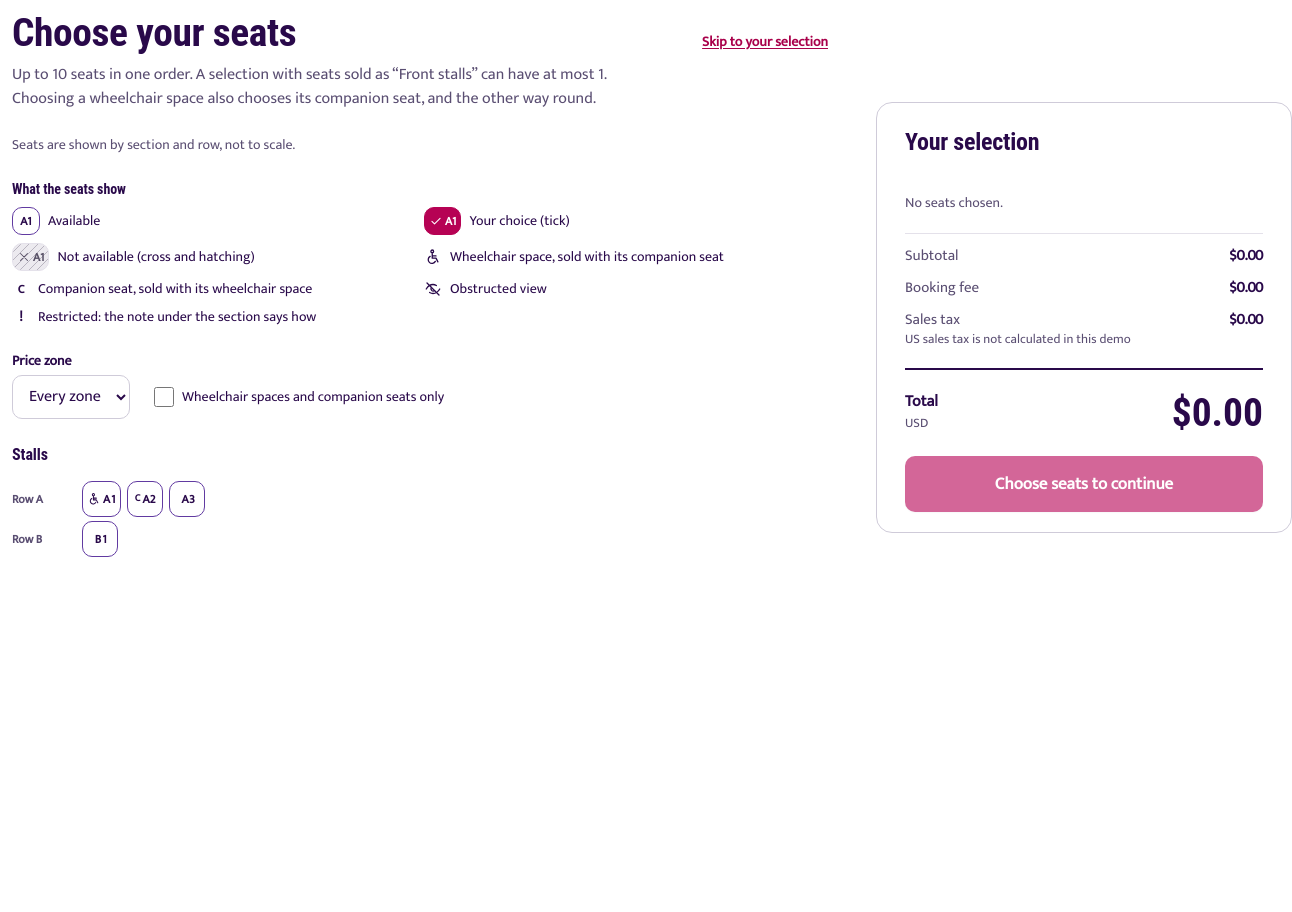
Test case: choosing seats › holds a mixed selection to the smallest limit among its tiers, and says whose
Expected: the text "A selection with seats sold as “Front stalls” can have at most 1." is shown, [12,61,607,88]
Click the button "A3" at (187, 499), box [169,481,205,517]
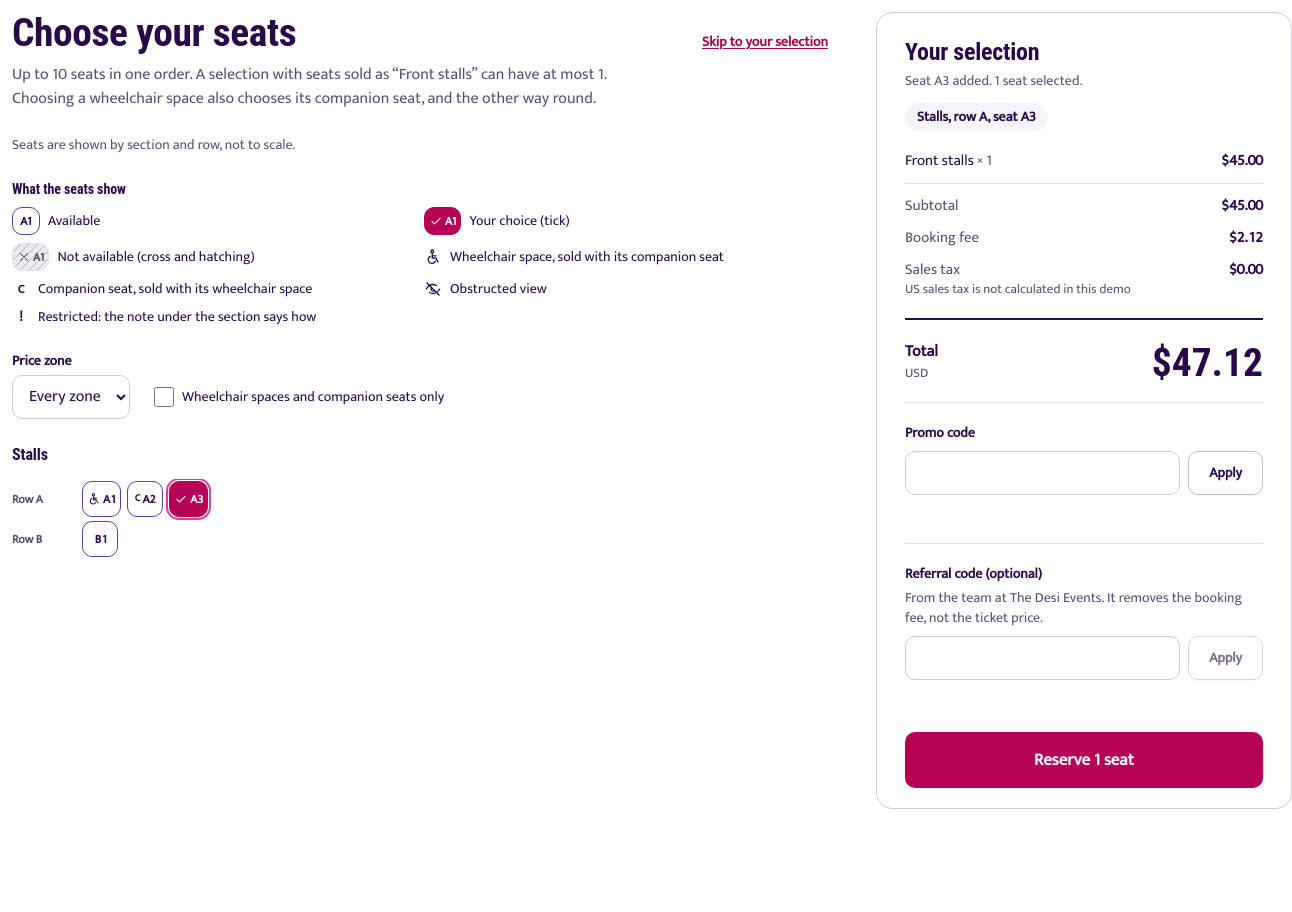
Click the button "B1" at (100, 539), box [82,521,118,557]
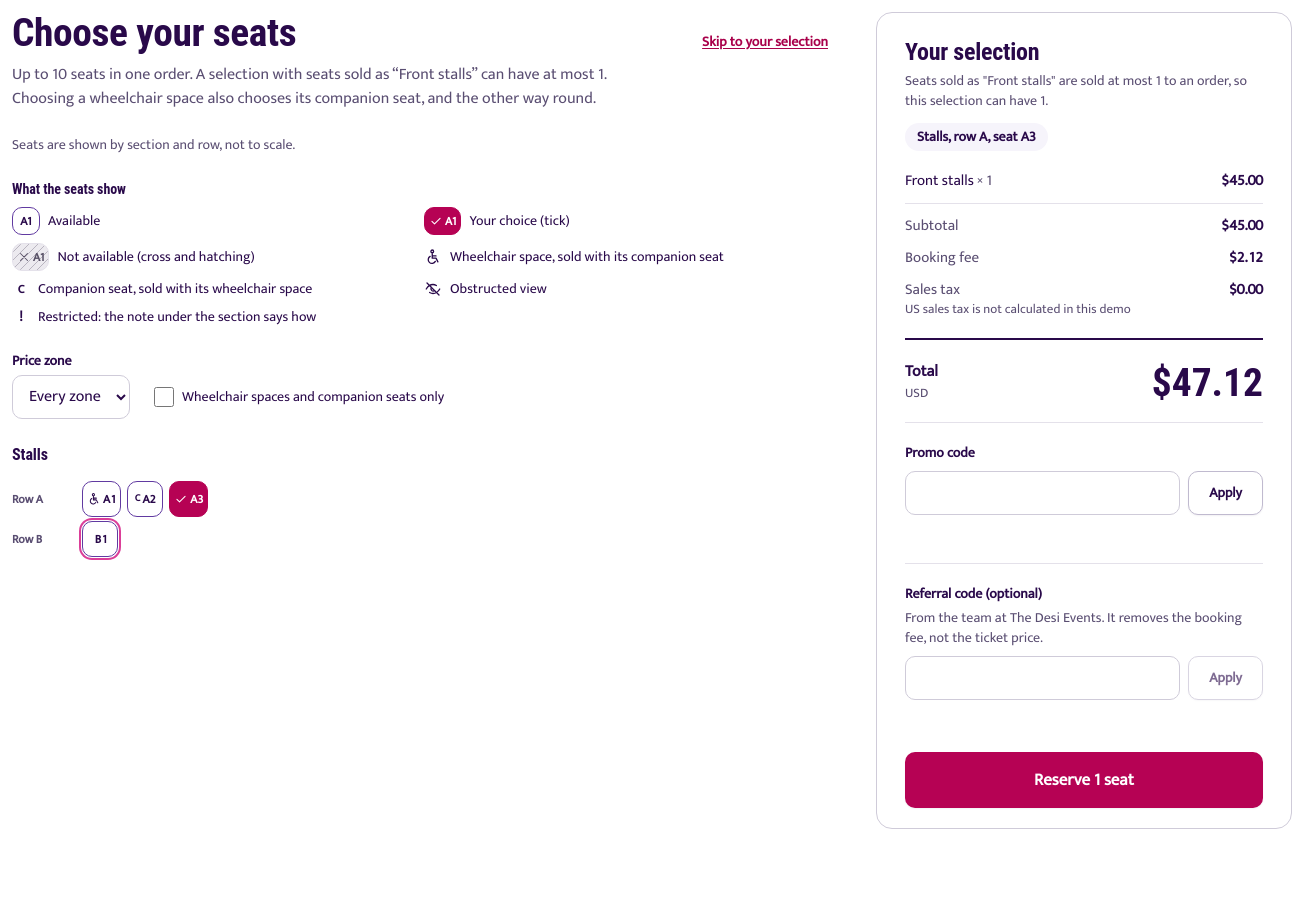
Result: the text "Seats sold as \"Front stalls\" are sold at most 1 to an order, so this selection can have 1." is shown at [905,69,1247,112]
